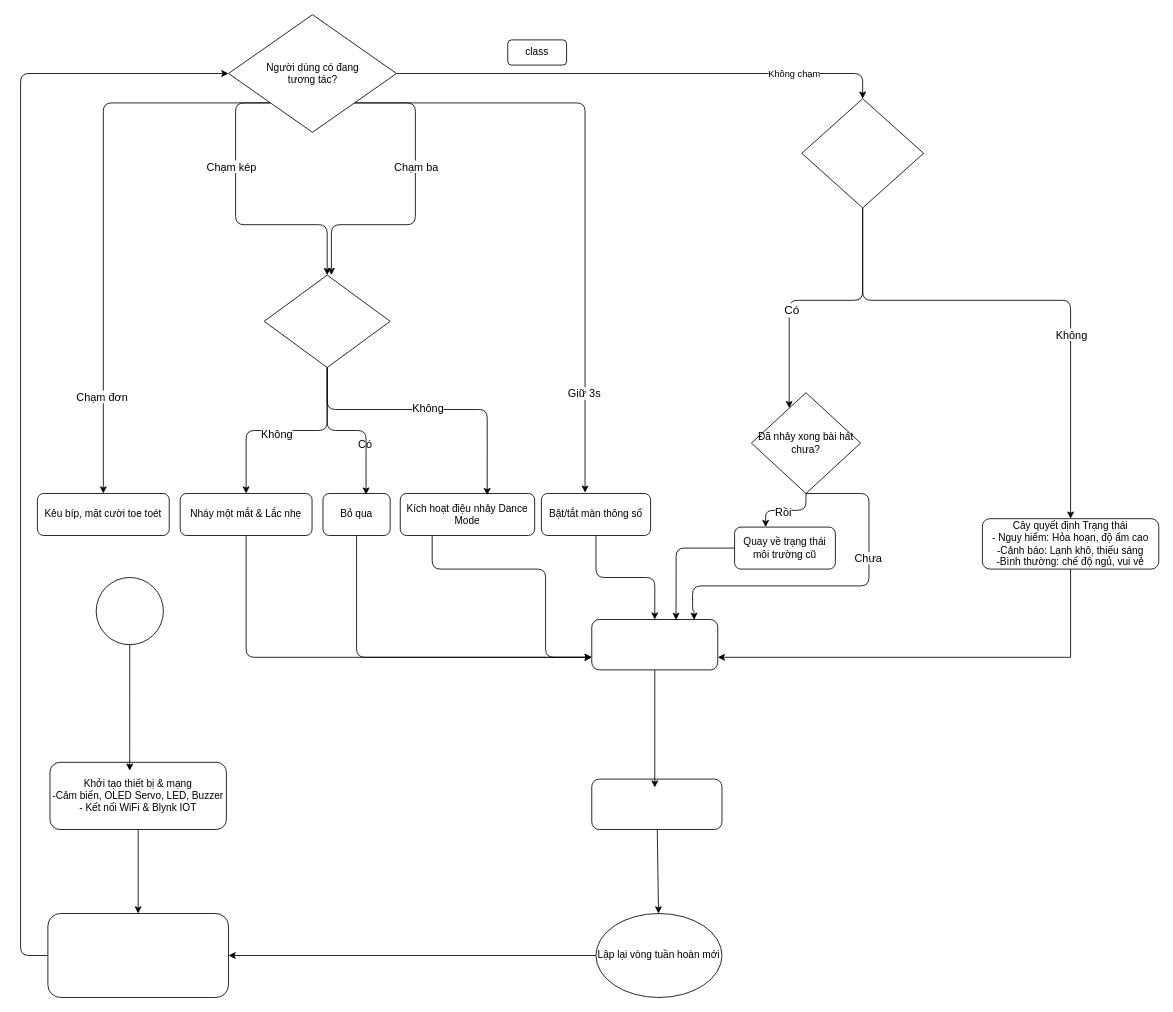
The diagram is 1173 pixels wide and 1012 high, and some of its shapes have lost their labels. The shapes that lost their labels are listed below. From the top down, each one's centre as x and y in pixels, then its label:
At point (862, 153): "Đang ở chế độ Nhảy".
At point (326, 321): "Đang hiện thị màn thông số?".
At point (129, 611): "Bắt đầu khởi động nguồn".
At point (654, 644): "ActuateOutputs".
At point (656, 804): "Đồng bộ dữ liệu đám mây Blynk IoT".
At point (137, 955): "Đọc dữ liệu cảm biến - Nhiệt độ, độ ẩm - Cường độ ánh sáng - Trạng thái chạm".
